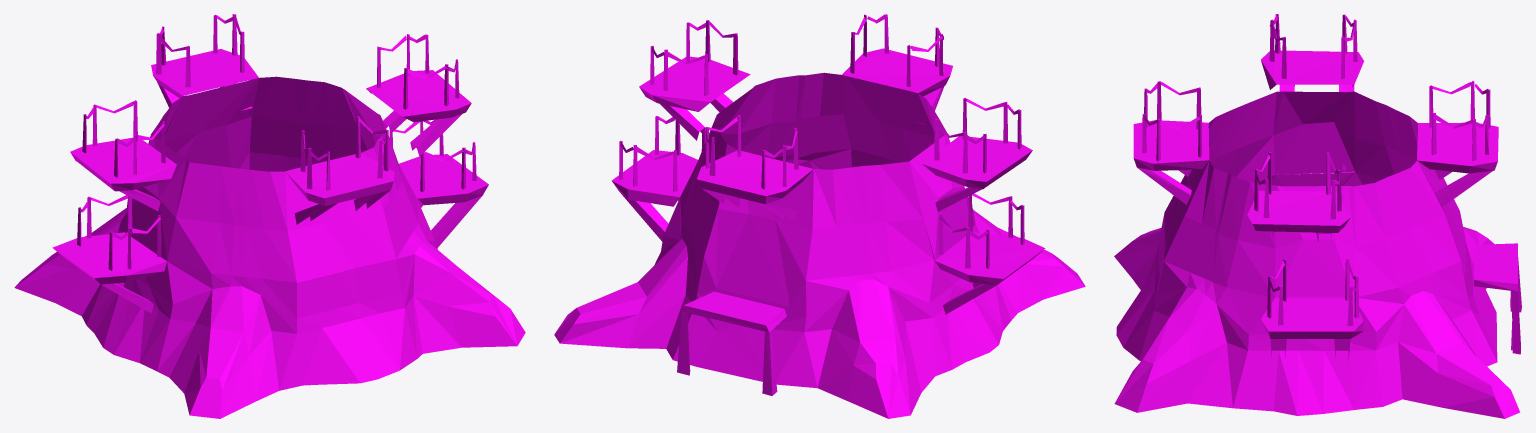
The model's file is grand treeinside-lev 1.obj.
3 renders of one model, left to right at view 1: azimuth 30°, elevation 25°; view 2: azimuth 150°, elevation 25°; view 3: azimuth 270°, elevation 25°, orthographic.
Visible parts, largest first — view 1: grand treeinside-lev 1_back; view 2: grand treeinside-lev 1_back; view 3: grand treeinside-lev 1_back.
Boxes of the visible parts, x1=… form: grand treeinside-lev 1_back: x1=14, y1=14, x2=525, y2=418; grand treeinside-lev 1_back: x1=554, y1=14, x2=1085, y2=418; grand treeinside-lev 1_back: x1=1114, y1=14, x2=1521, y2=418.
Size of the model in its own units: 11.3 by 6.38 by 10.01.
